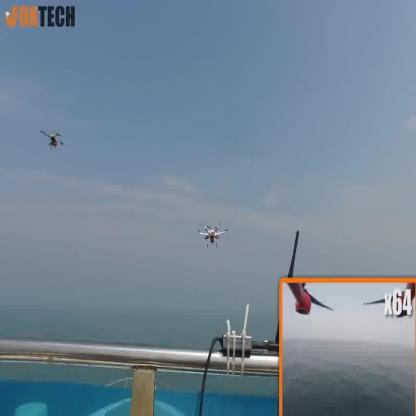drone: (190, 218, 232, 256), (38, 126, 66, 153)
